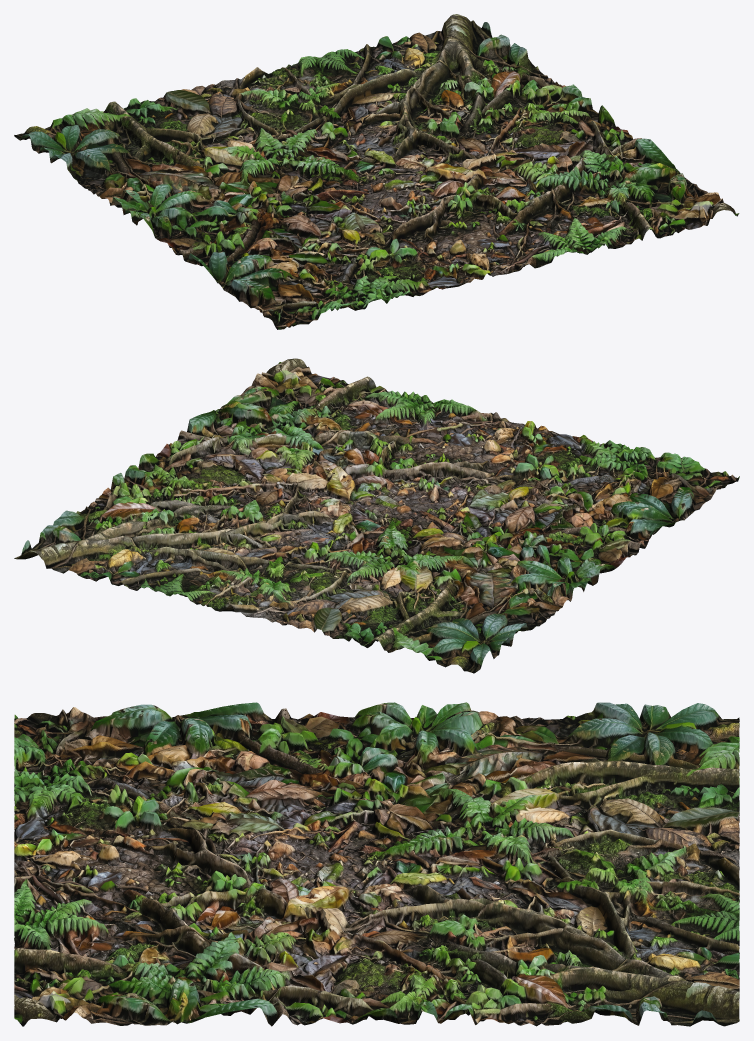
Rendered from jungle_roots.glb.
3 renders of one model, top to bottom at view 1: azimuth 30°, elevation 25°; view 2: azimuth 150°, elevation 25°; view 3: azimuth 270°, elevation 25°, orthographic. The views are drawn at different scales.
Visible parts, largest first — view 1: Plane_0; view 2: Plane_0; view 3: Plane_0.
Boxes of the visible parts, bbox=[...] form: Plane_0: bbox=[14, 14, 739, 329]; Plane_0: bbox=[14, 358, 739, 673]; Plane_0: bbox=[14, 702, 739, 1026].
Bounding box in the file's own units: 2 × 0.069 × 2.
1 material, 1 textured.
